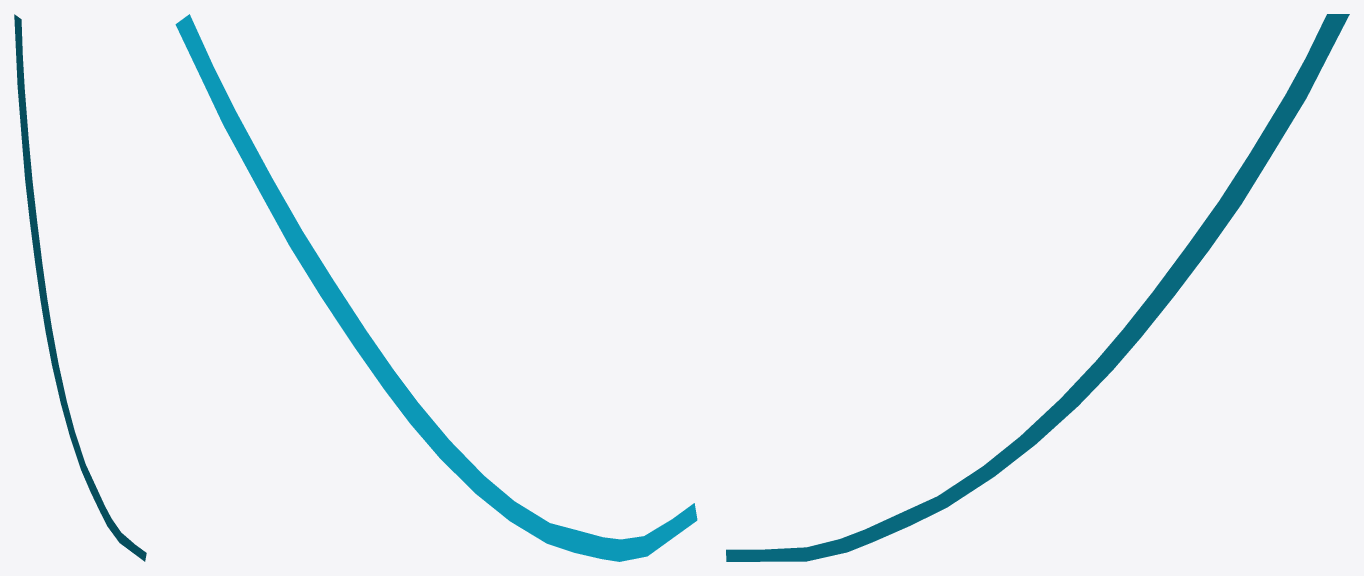
The model's file is linea corteza.fbx.
The picture shows the model from 3 angles, left to right: view 1: azimuth 30°, elevation 25°; view 2: azimuth 150°, elevation 25°; view 3: azimuth 270°, elevation 25°; orthographic projection. The views are drawn at different scales.
Visible parts, largest first — view 1: linea_normal5; view 2: linea_normal5; view 3: linea_normal5.
Part boxes in pixels (left/top/right/bottom): linea_normal5: left=14, top=14, right=146, bottom=561; linea_normal5: left=175, top=14, right=697, bottom=561; linea_normal5: left=726, top=14, right=1349, bottom=561.
Size of the model in its own units: 3.71 by 19.79 by 18.64.
